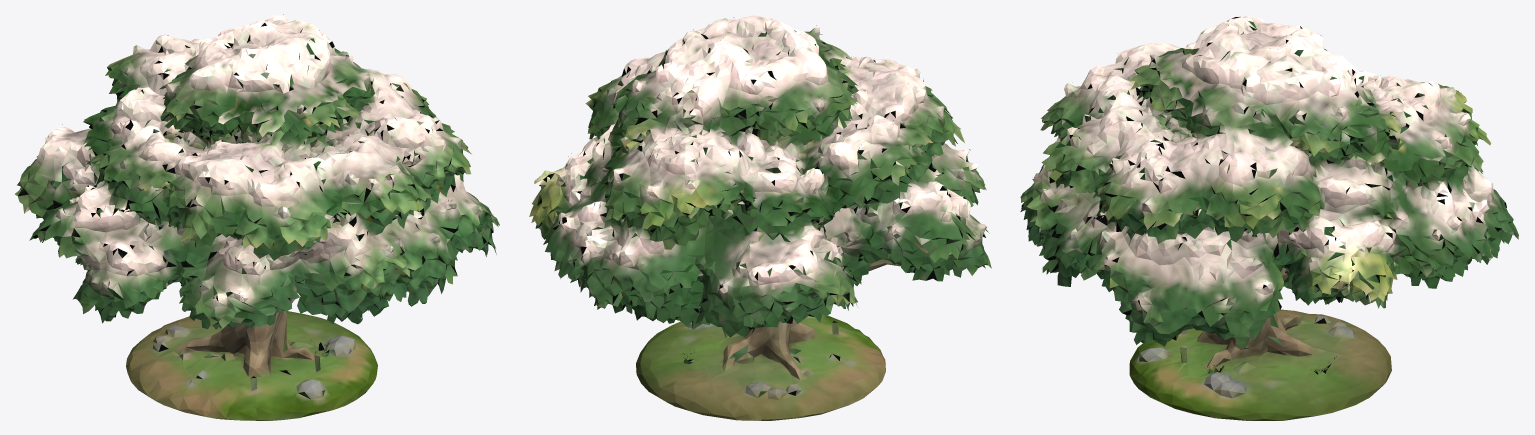
Rendered from Whispering_Blossom_Tr.fbx.
The picture shows the model from 3 angles, left to right: view 1: azimuth 30°, elevation 25°; view 2: azimuth 150°, elevation 25°; view 3: azimuth 270°, elevation 25°; orthographic projection. The views are drawn at different scales.
Parts seen in each view (by area): view 1: Whispering_Blossom_Tr_LOD0; view 2: Whispering_Blossom_Tr_LOD0; view 3: Whispering_Blossom_Tr_LOD0.
Part boxes in pixels (box(x1,y1,x2,y2)): Whispering_Blossom_Tr_LOD0: box(15, 14, 499, 420); Whispering_Blossom_Tr_LOD0: box(529, 15, 991, 420); Whispering_Blossom_Tr_LOD0: box(1020, 16, 1518, 420).
Size of what is drawn, in the model's own units: 1.84 by 1.44 by 1.89.
Materials: 1 (1 with a texture image).
